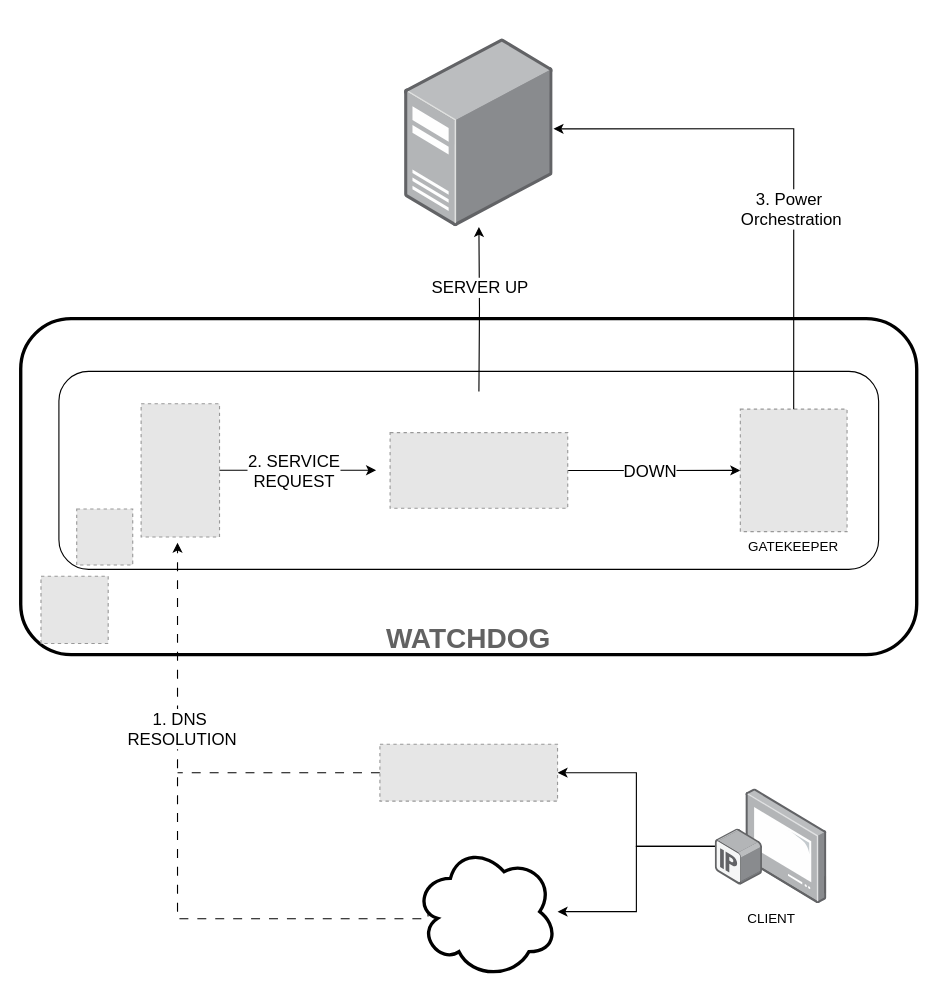
The diagram is 937 pixels wide and 999 high, and some of its shapes have lost their labels. Grey dashed boxes stand in for pictures. Here are the shapes that lost their labels. From the top down, the centre of each, then its label:
At pixel 478 132: "TARGET SERVER".
At pixel 485 911: "LAN".
